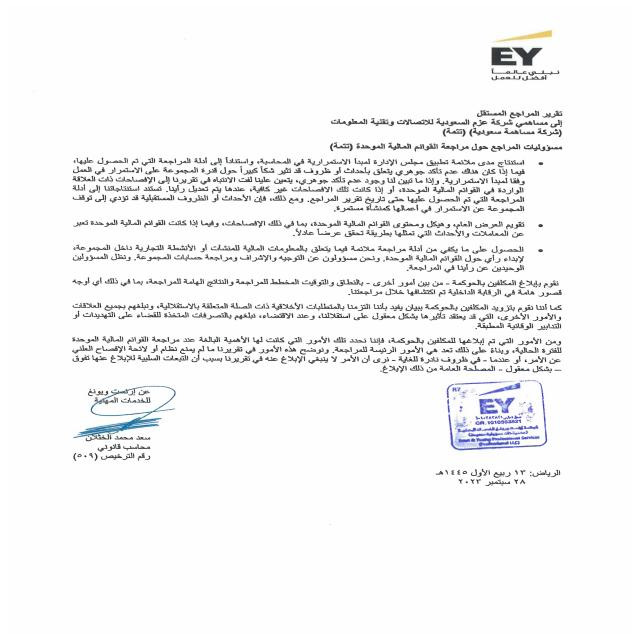auditor_report: (468, 106, 581, 121)
